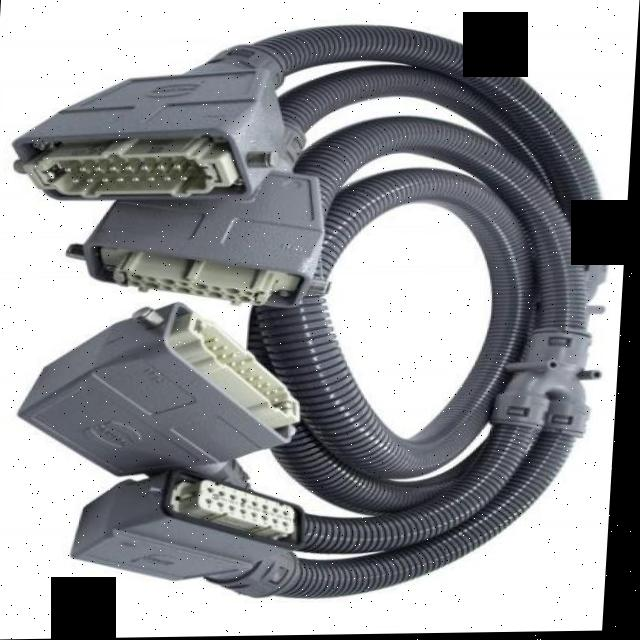connector: (24, 304, 302, 475), (18, 60, 291, 200), (86, 174, 326, 305), (78, 473, 304, 580)
